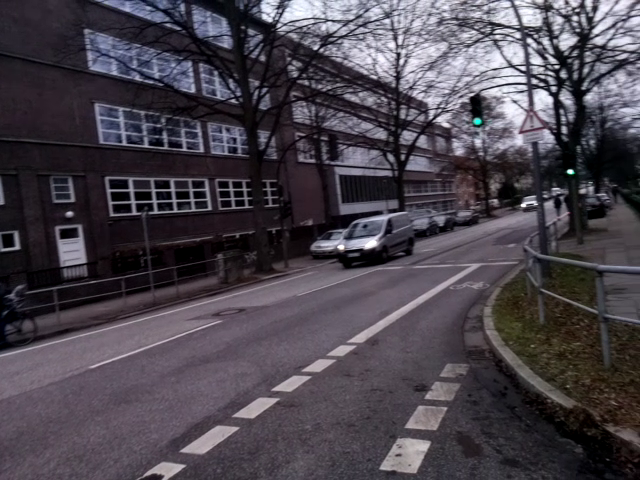car: (331, 213, 419, 268)
